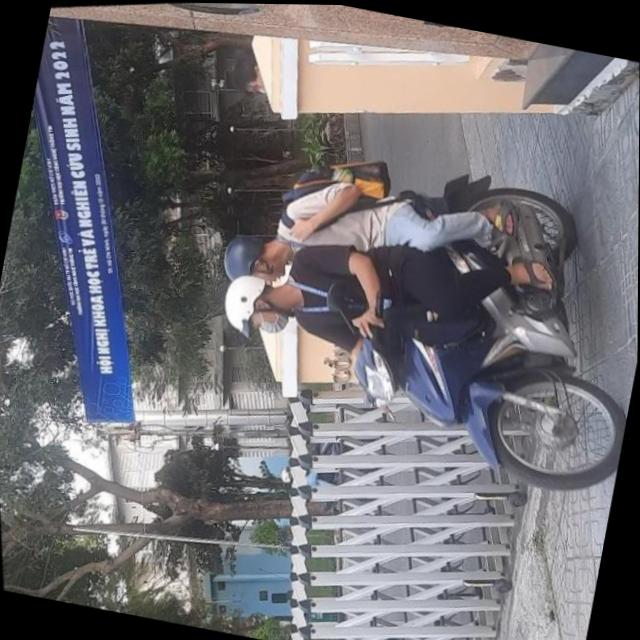WITH_HELMET: (211, 263, 284, 343), (213, 219, 276, 285)
